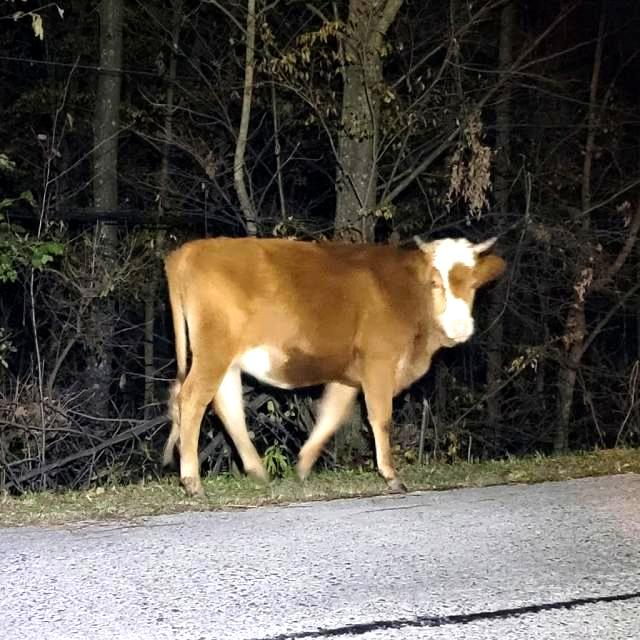COW: (166, 238, 504, 493)
